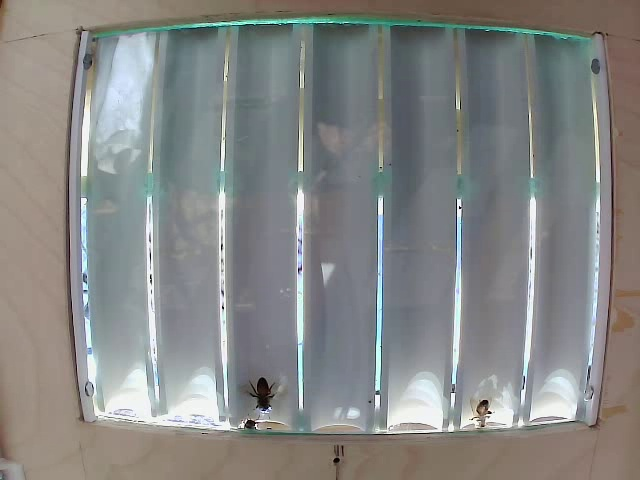bee: (240, 367, 283, 416)
